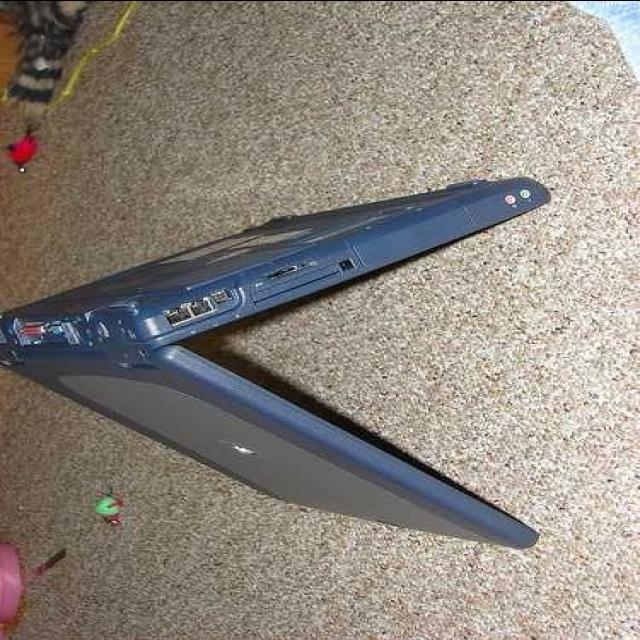laptop: (0, 153, 556, 590)
